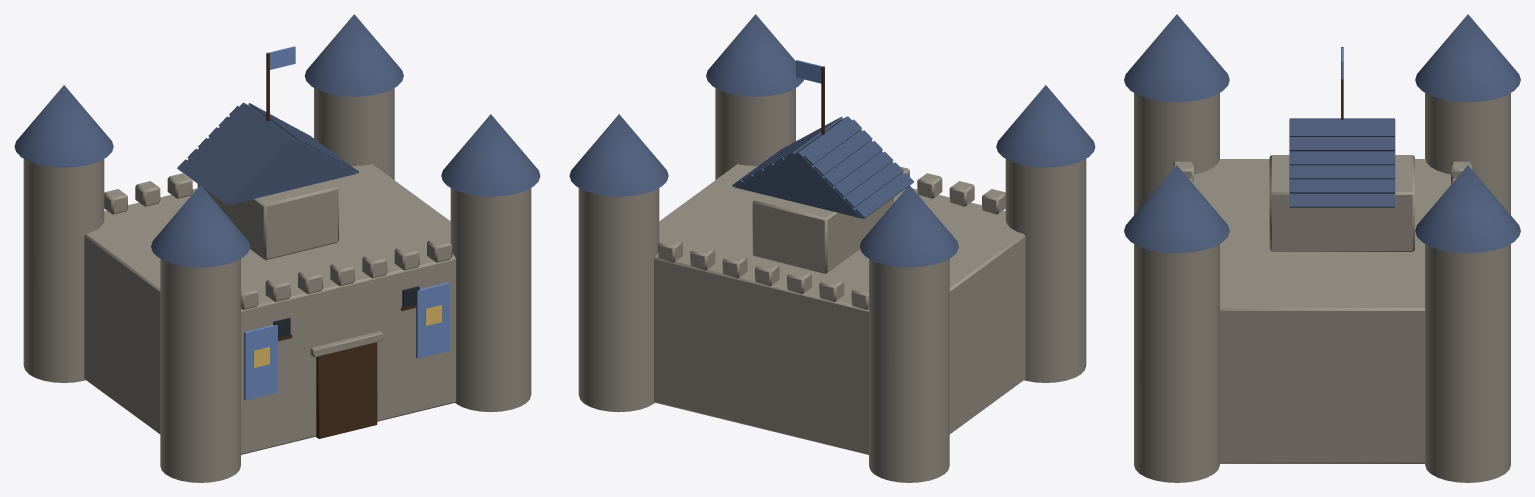
File: keep.glb
3 views of the same model, side by side, from view 1: azimuth 30°, elevation 25°; view 2: azimuth 150°, elevation 25°; view 3: azimuth 270°, elevation 25° (orthographic). The views are drawn at different scales.
Parts seen in each view (by area): view 1: building; view 2: building; view 3: building.
Part boxes in pixels (x1,y1,x2,y2): building: (14, 14, 540, 482); building: (569, 14, 1095, 482); building: (1124, 14, 1520, 482).
Bounding box in the file's own units: 7 × 5.7 × 6.
